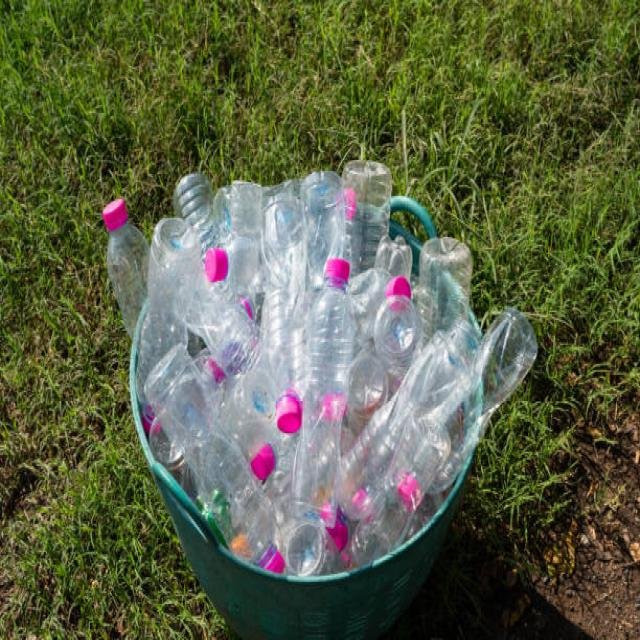plastic: (164, 201, 463, 461)
